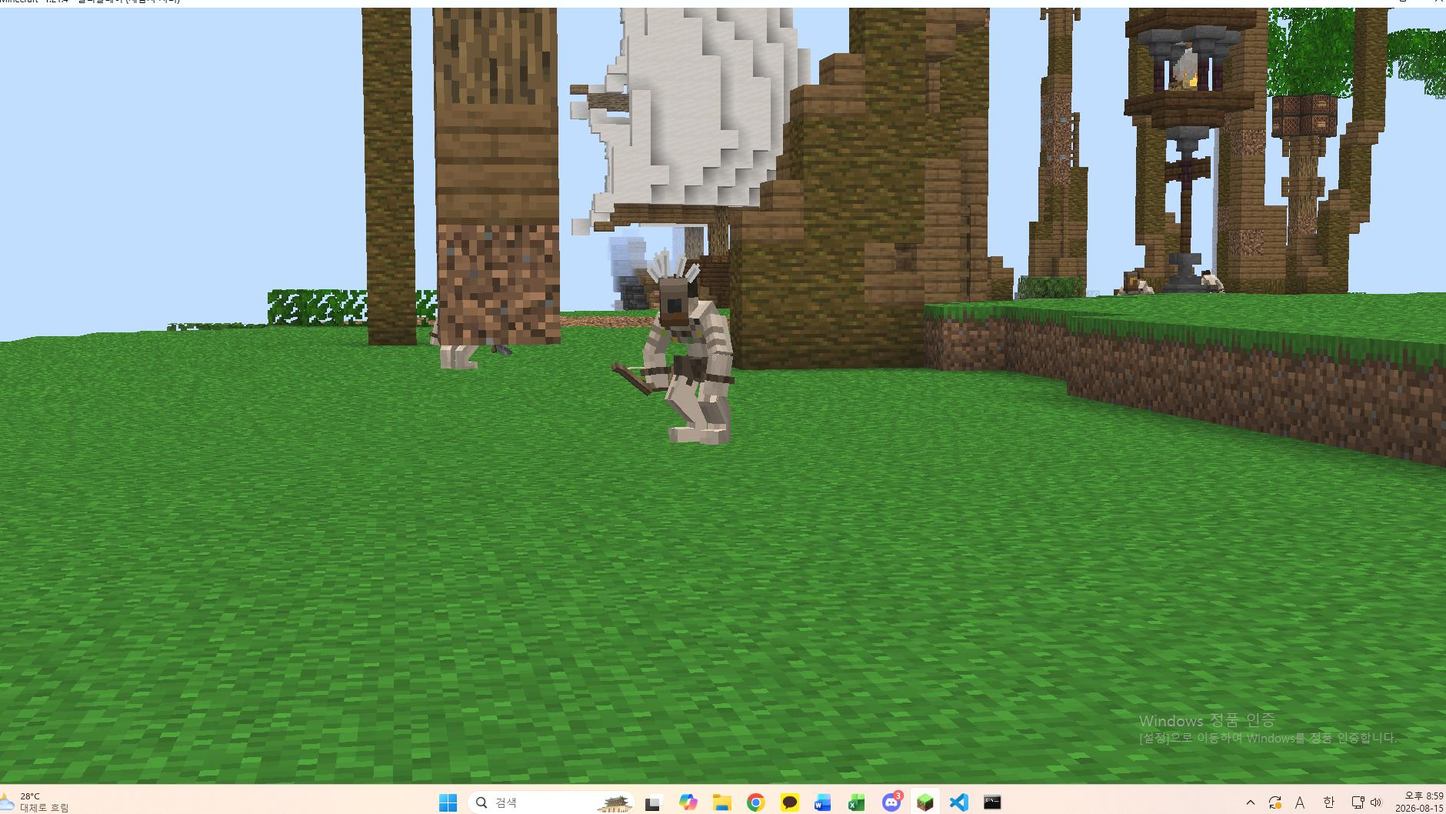bow_indian: (596, 243, 772, 457)
